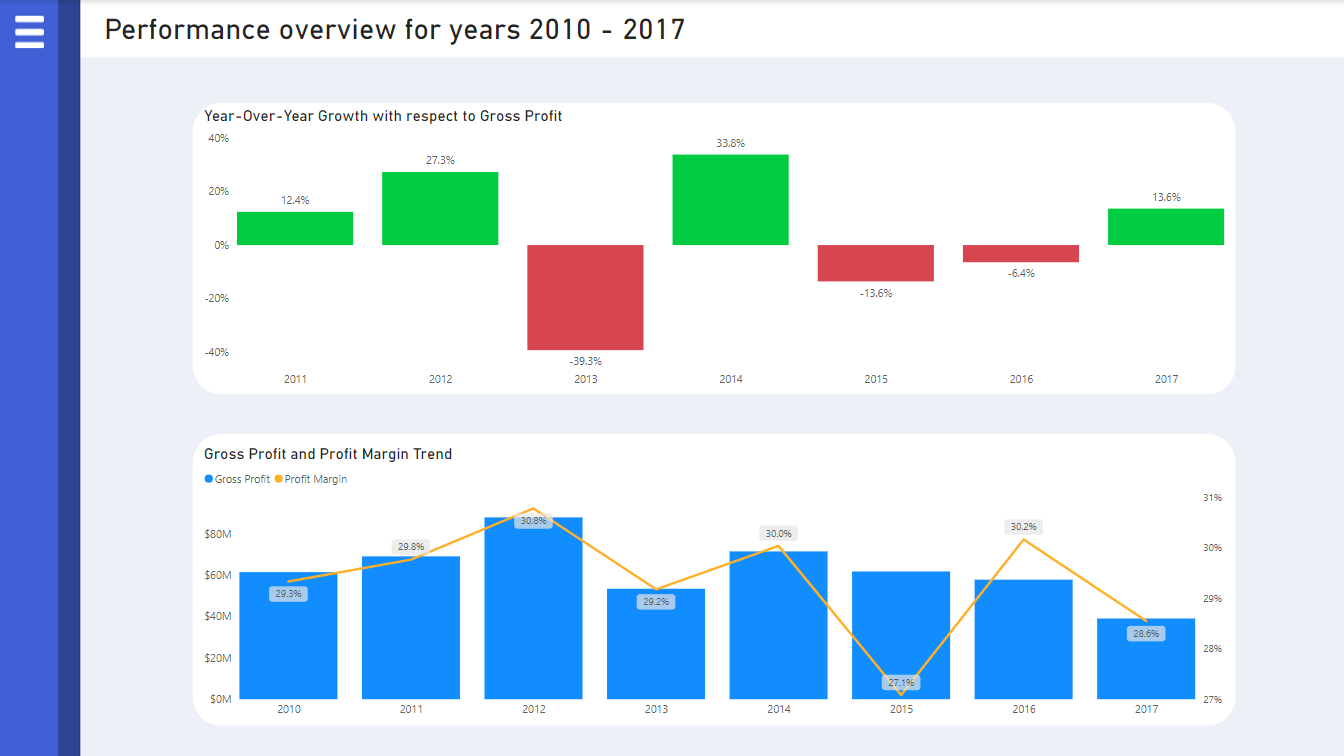

This screenshot's page, from the dashboard's own definition file:
{"tool":"powerbi","page":{"name":"Performance Overview","canvas":[1664,936],"ordinal":2},"visuals":[{"type":"shape","box":[238.3,536.7,1291.7,361.7],"z":0},{"type":"shape","box":[238.3,126.7,1291.7,361.7],"z":1000},{"type":"actionButton","title":"Menu Bar Button","box":[12.9,14.3,48.6,51.4],"z":2000},{"type":"lineStackedColumnComboChart","title":"Gross Profit and Profit Margin Trend","fields":{"Y":["Sales.Gross Profit"],"Category":["Dates.Date.Variation.Date Hierarchy.Year"],"Y2":["Sales.Profit Margin"]},"box":[248.3,551.7,1273.3,346.7],"z":3000},{"type":"columnChart","title":"Year-Over-Year Growth with respect to Gross Profit","fields":{"Category":["Dates.Date.Variation.Date Hierarchy.Year"],"Y":["Sales.YOY Gross Profit Growth"]},"box":[248.3,126.7,1273.3,361.7],"z":4000},{"type":"card","title":"Title Card","fields":{"Values":["Sales.Annual Comparison Title"]},"box":[109.9,0,758.3,65],"z":5000}]}

Visuals, with their boxes in screenshot pixels (x1, y1, x2, y2), scaled from the page's 1664x936 canvas onto the 1344x756 screenshot:
shape: <region>192, 433, 1236, 726</region>
shape: <region>192, 102, 1236, 394</region>
"Menu Bar Button" actionButton: <region>10, 12, 50, 53</region>
"Gross Profit and Profit Margin Trend" lineStackedColumnComboChart: <region>201, 446, 1229, 726</region>
"Year-Over-Year Growth with respect to Gross Profit" columnChart: <region>201, 102, 1229, 394</region>
"Title Card" card: <region>89, 0, 701, 52</region>
